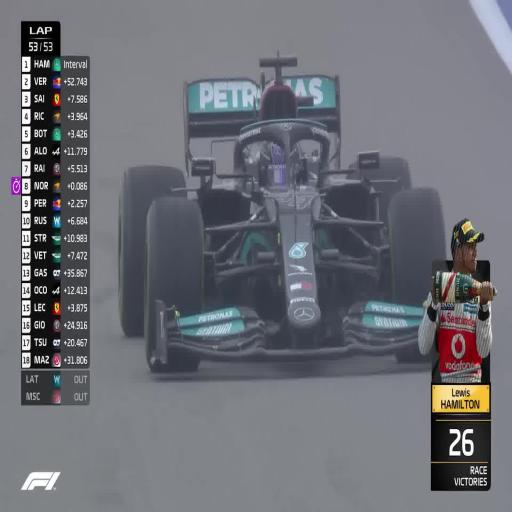f1_car: (118, 55, 445, 370)
